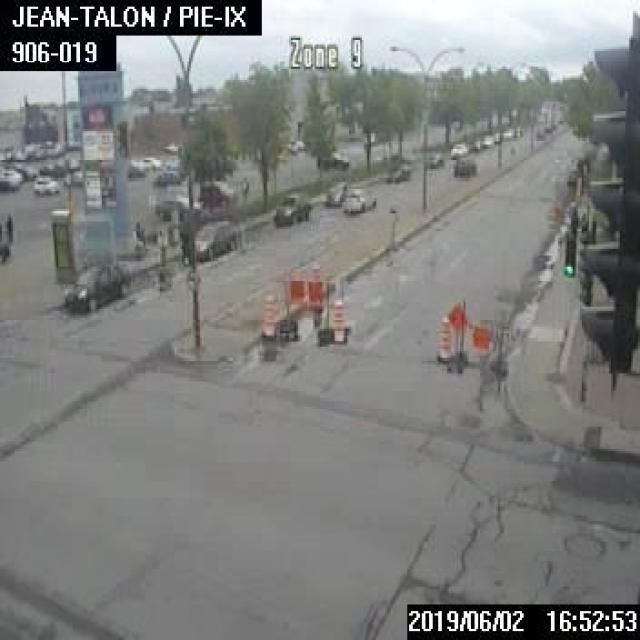construction: (445, 297, 508, 372), (434, 313, 448, 362), (331, 298, 345, 343), (260, 292, 274, 336)
pedestrian: (134, 220, 145, 249), (3, 210, 12, 242), (240, 175, 247, 198)
vehicle: (56, 258, 133, 313), (273, 272, 332, 342), (193, 216, 242, 262), (271, 189, 313, 224), (153, 196, 200, 218), (339, 183, 374, 212), (197, 181, 233, 204), (322, 181, 352, 204), (316, 151, 347, 170), (383, 160, 409, 182), (453, 155, 476, 175), (152, 168, 179, 184), (33, 176, 57, 192), (14, 164, 35, 177), (426, 152, 443, 167), (449, 142, 467, 156), (62, 170, 80, 184), (0, 170, 22, 181), (141, 156, 160, 168), (0, 176, 16, 190), (127, 162, 144, 175), (37, 162, 55, 174), (0, 242, 9, 262), (479, 134, 493, 146), (468, 138, 482, 150), (500, 126, 513, 136), (491, 131, 502, 141), (512, 126, 522, 135)
